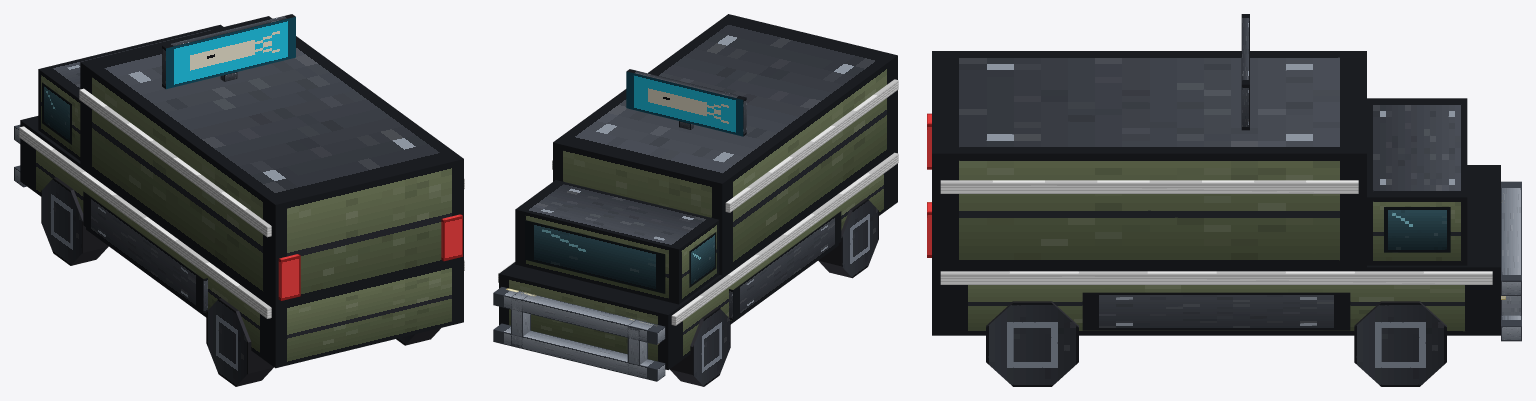
The model's file is fish_van.glb.
3 renders of one model, left to right at view 1: azimuth 30°, elevation 25°; view 2: azimuth 150°, elevation 25°; view 3: azimuth 270°, elevation 25°, orthographic. The views are drawn at different scales.
Visible parts, largest first — view 1: Body, Trim, Sign, WheelBL, WheelFL, TaillightL, TaillightR; view 2: Body, Trim, Sign, WheelFL, WheelBL; view 3: Body, Trim, WheelFR, WheelBR, Sign.
Boxes of the visible parts, x1,y1,x2,y2 form: Body: (14,16,463,368); Trim: (19,88,464,318); Sign: (162,14,295,89); WheelBL: (206,298,273,386); WheelFL: (41,177,108,265); TaillightL: (278,254,300,300); TaillightR: (441,214,462,261); Body: (493,14,897,381); Trim: (498,79,898,325); Sign: (626,69,746,136); WheelFL: (670,307,730,386); WheelBL: (818,198,878,278); Body: (932,51,1521,341); Trim: (940,180,1492,284); WheelFR: (1354,301,1446,386); WheelBR: (986,301,1078,386); Sign: (1241,14,1249,130).
Bounding box in the file's own units: 1.9 × 2.35 × 4.44.
Materials: 1 (1 with a texture image).
